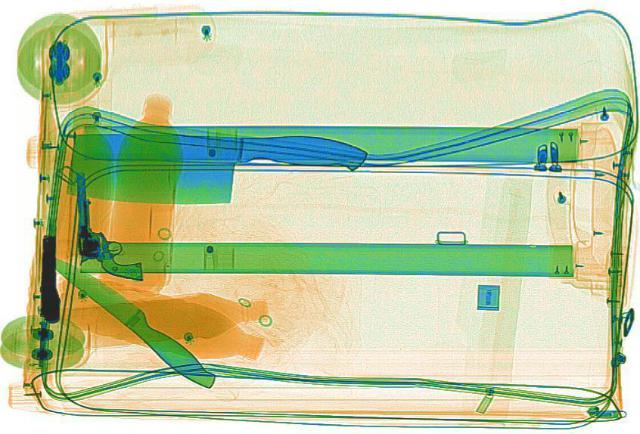Gun: (65, 169, 143, 281), (33, 235, 65, 320)
Knife: (35, 242, 231, 393), (63, 129, 367, 205)
